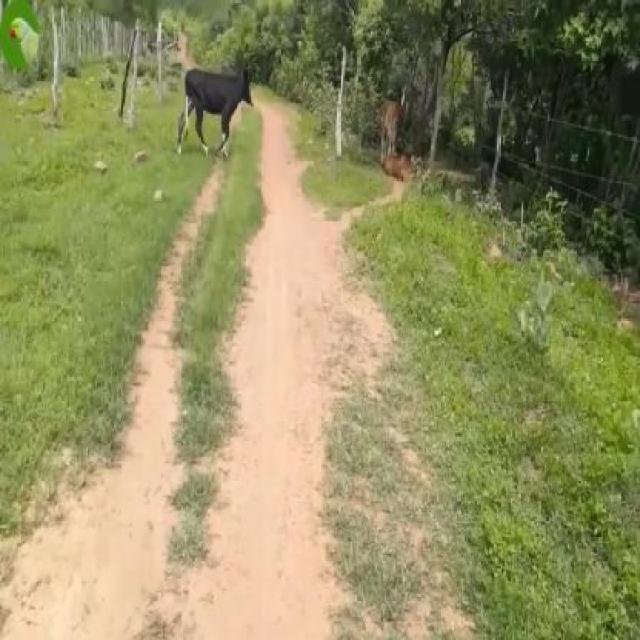Cow: (177, 66, 254, 162)
